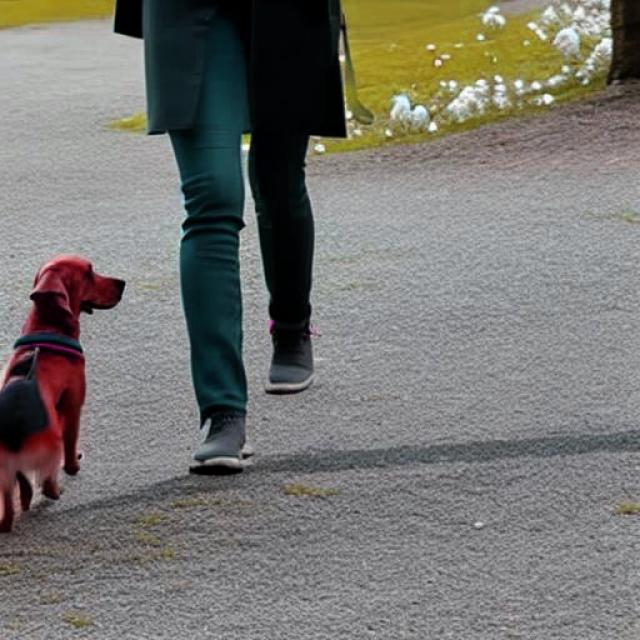Unleashed_Dog: (0, 0, 316, 536)
